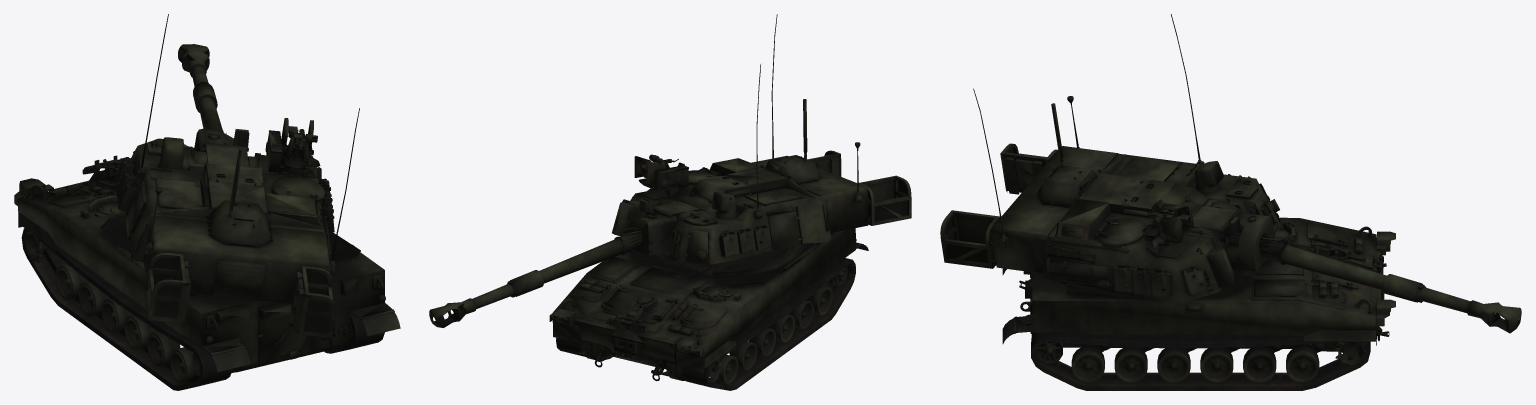
File: m109-wreck.glb
3 renders of one model, left to right at view 1: azimuth 30°, elevation 25°; view 2: azimuth 150°, elevation 25°; view 3: azimuth 270°, elevation 25°, orthographic. The views are drawn at different scales.
Parts seen in each view (by area): view 1: turret, hull, barrel; view 2: hull, turret, barrel; view 3: hull, turret, barrel.
Part boxes in pixels (x1,y1,x2,y2): turret: [114, 14, 359, 337]; hull: [14, 144, 400, 390]; barrel: [178, 44, 226, 144]; hull: [549, 228, 868, 390]; turret: [612, 14, 911, 264]; barrel: [429, 229, 641, 327]; hull: [1002, 217, 1395, 390]; turret: [940, 14, 1285, 302]; barrel: [1230, 234, 1521, 333].
Size of the model in its own units: 5.31 by 5.24 by 8.84.
Materials: 1 (1 with a texture image).
